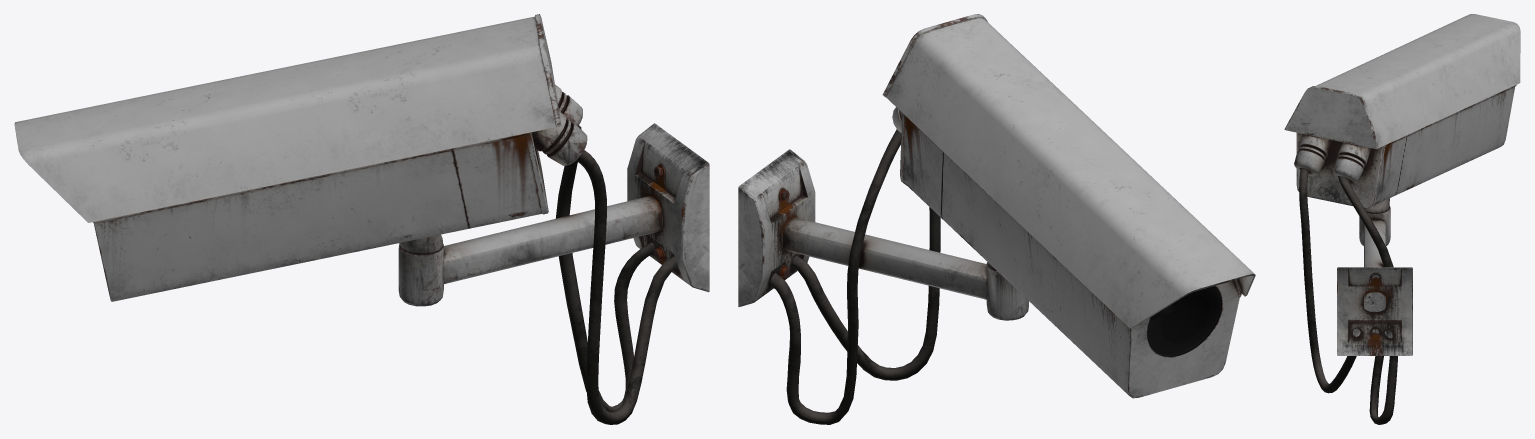
The model's file is cctv.glb.
The picture shows the model from 3 angles, left to right: view 1: azimuth 30°, elevation 25°; view 2: azimuth 150°, elevation 25°; view 3: azimuth 270°, elevation 25°; orthographic projection. The views are drawn at different scales.
Parts seen in each view (by area): view 1: defaultMaterial, Box001, Cylinder005, Line003, Box003, Cylinder002; view 2: defaultMaterial, Box001, Line003, Cylinder005, Box003; view 3: defaultMaterial, Box001, Box003, Line003, Cylinder002, Cylinder005, Cylinder004.
Part boxes in pixels (x1,y1,x2,y2): defaultMaterial: [14, 14, 561, 222]; Box001: [93, 132, 548, 301]; Cylinder005: [398, 196, 661, 306]; Line003: [555, 125, 678, 424]; Box003: [627, 123, 709, 292]; Cylinder002: [531, 84, 587, 165]; defaultMaterial: [882, 14, 1255, 328]; Box001: [900, 112, 1241, 398]; Line003: [769, 129, 940, 424]; Cylinder005: [782, 217, 1028, 320]; Box003: [738, 149, 815, 306]; defaultMaterial: [1284, 14, 1520, 148]; Box001: [1296, 85, 1516, 208]; Box003: [1337, 267, 1412, 355]; Line003: [1299, 168, 1397, 424]; Cylinder002: [1294, 134, 1371, 183]; Cylinder005: [1359, 206, 1390, 267]; Cylinder004: [1364, 198, 1389, 213].
Size of the model in its own units: 2 by 1.4 by 1.01.
2 materials, 2 textured.
